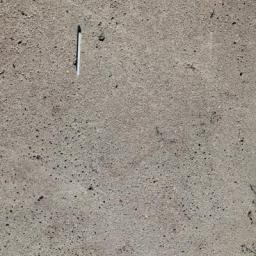FOD: (71, 23, 90, 77)
